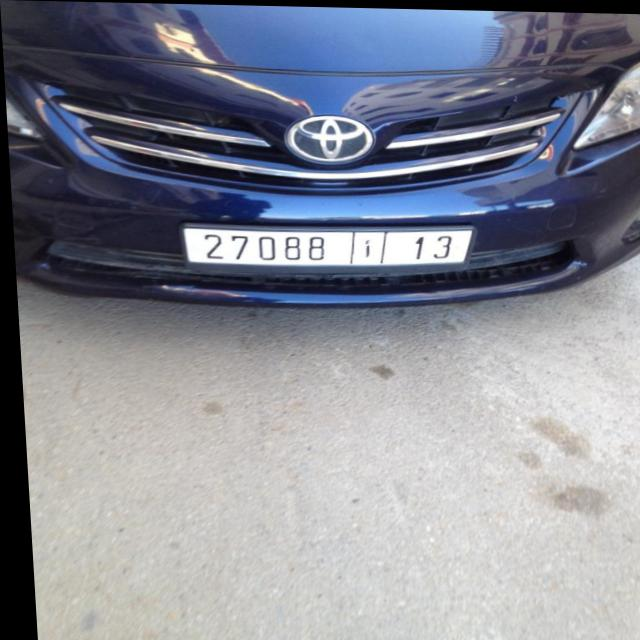License-Plate: (180, 226, 470, 265)
